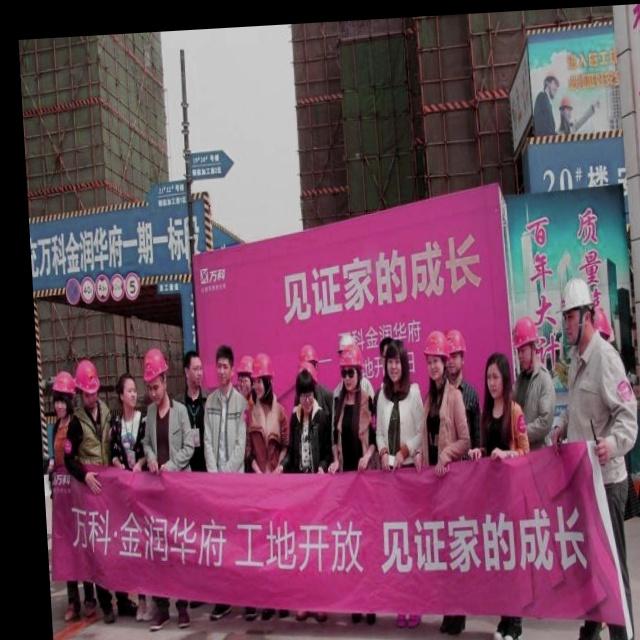Con_Casco: (248, 352, 274, 400)
Sin_Casco_Mascarrilla: (384, 338, 410, 392)
